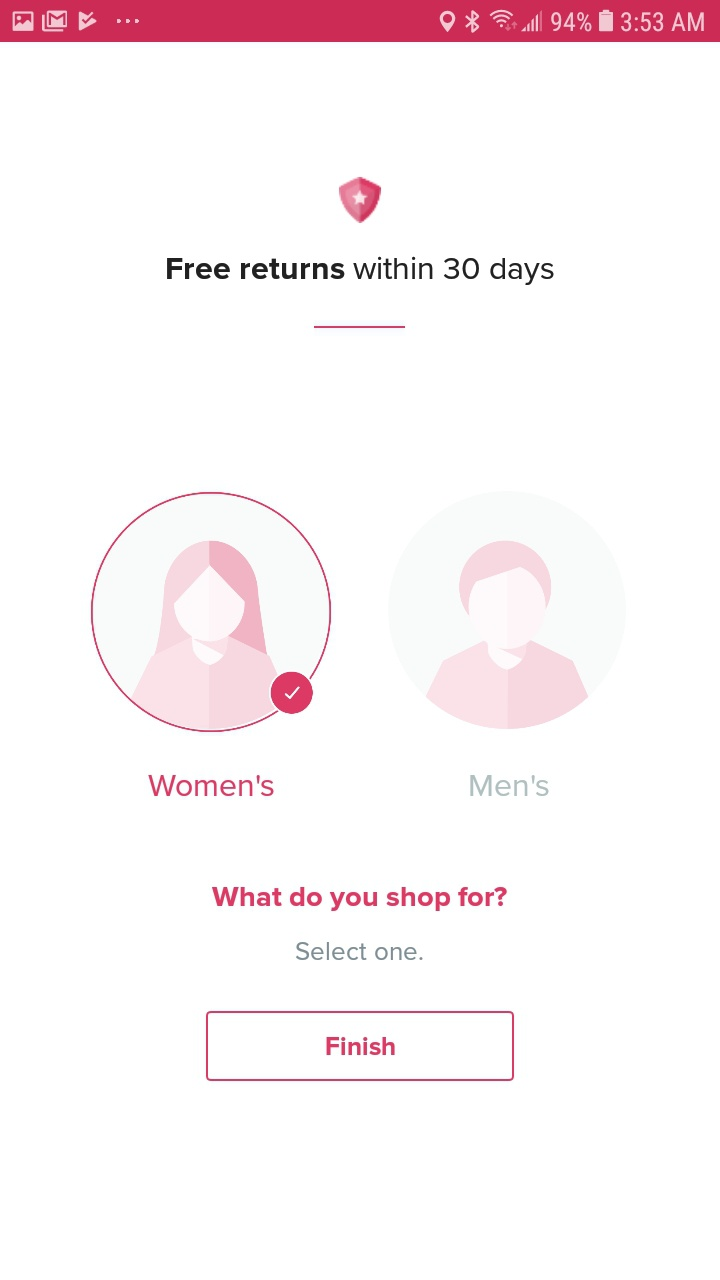Image: (91, 492, 332, 733), (387, 491, 626, 730), (338, 177, 382, 225)
Text: (167, 257, 555, 287), (212, 886, 508, 912), (149, 774, 275, 797), (296, 941, 424, 961), (470, 774, 550, 797)
TextButton: (206, 1011, 515, 1082)
UpperTaskBar: (1, 1, 720, 43)
